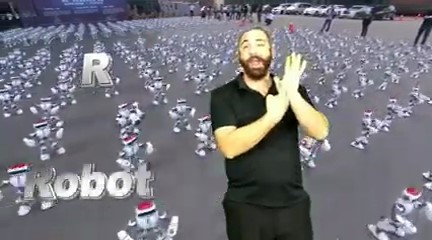R: (263, 48, 311, 122)
